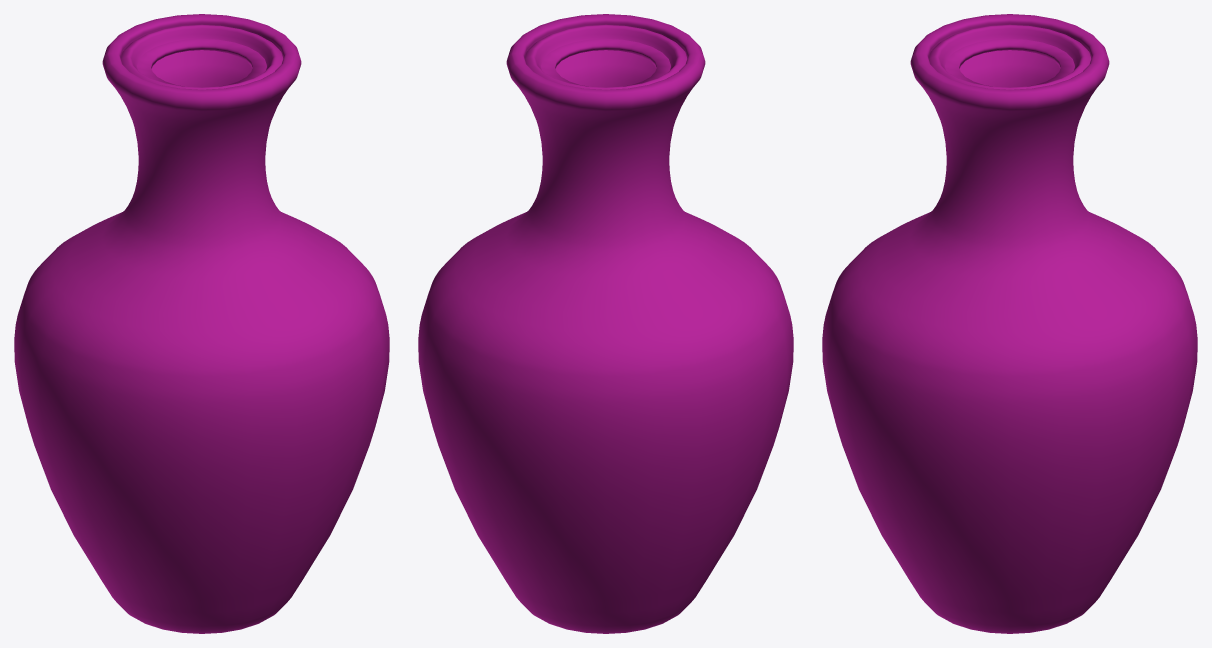
The picture shows the model from 3 angles, left to right: view 1: azimuth 30°, elevation 25°; view 2: azimuth 150°, elevation 25°; view 3: azimuth 270°, elevation 25°; orthographic projection.
Visible parts, largest first — view 1: Lathe_NURBS; view 2: Lathe_NURBS; view 3: Lathe_NURBS.
Part boxes in pixels (x1,y1,x2,y2): Lathe_NURBS: [14, 14, 389, 633]; Lathe_NURBS: [418, 14, 793, 633]; Lathe_NURBS: [822, 14, 1197, 633].
Bounding box in the file's own units: 193 × 314 × 193.
